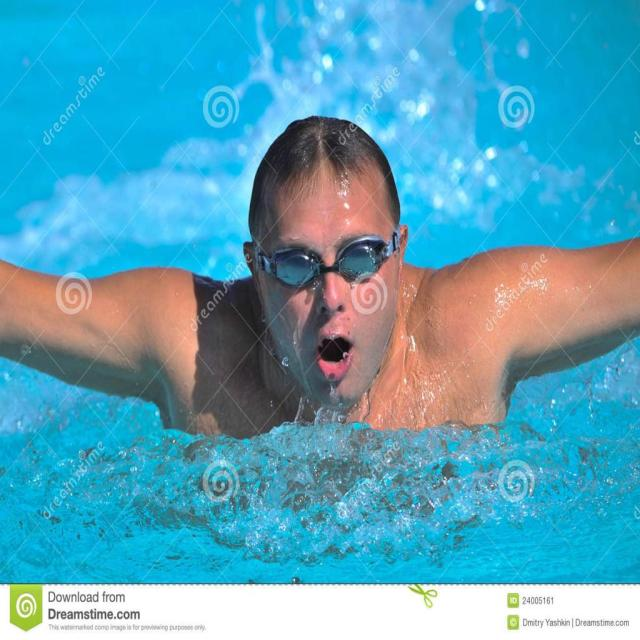Face: (251, 131, 408, 417)
